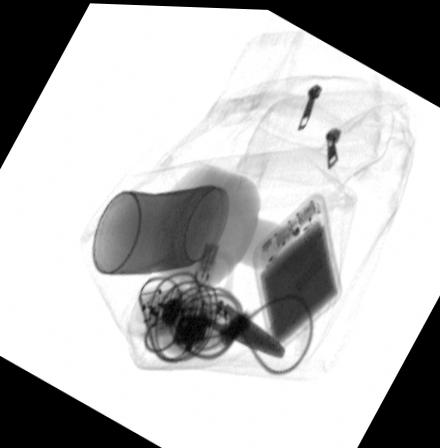Powerbank: (251, 187, 341, 352)
Scissors: (162, 248, 289, 361)
